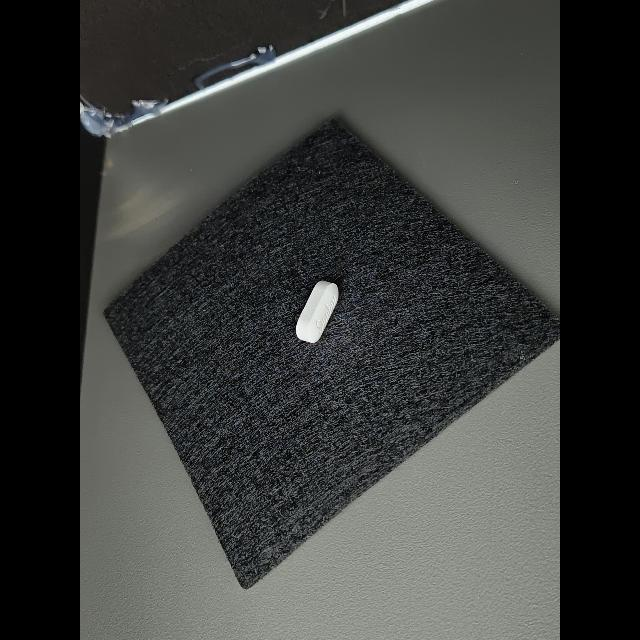Intact Pill: (296, 281, 339, 343)
